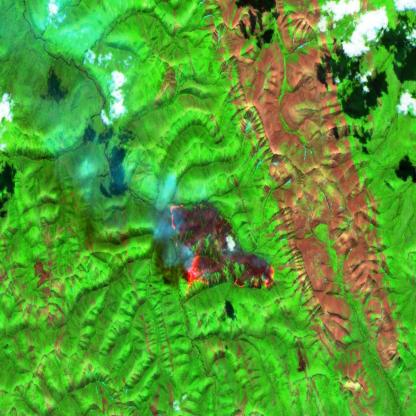fire: (178, 248, 275, 300), (160, 192, 186, 250)
